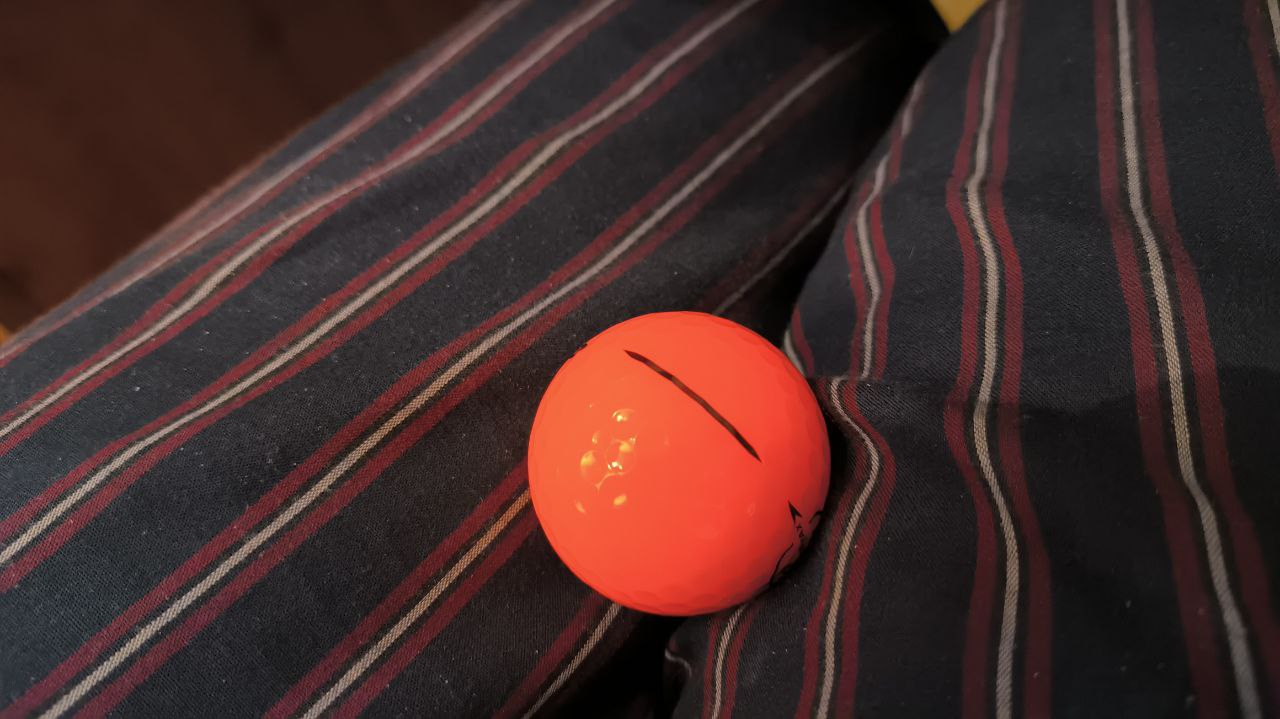orange_ball: (527, 310, 831, 617)
